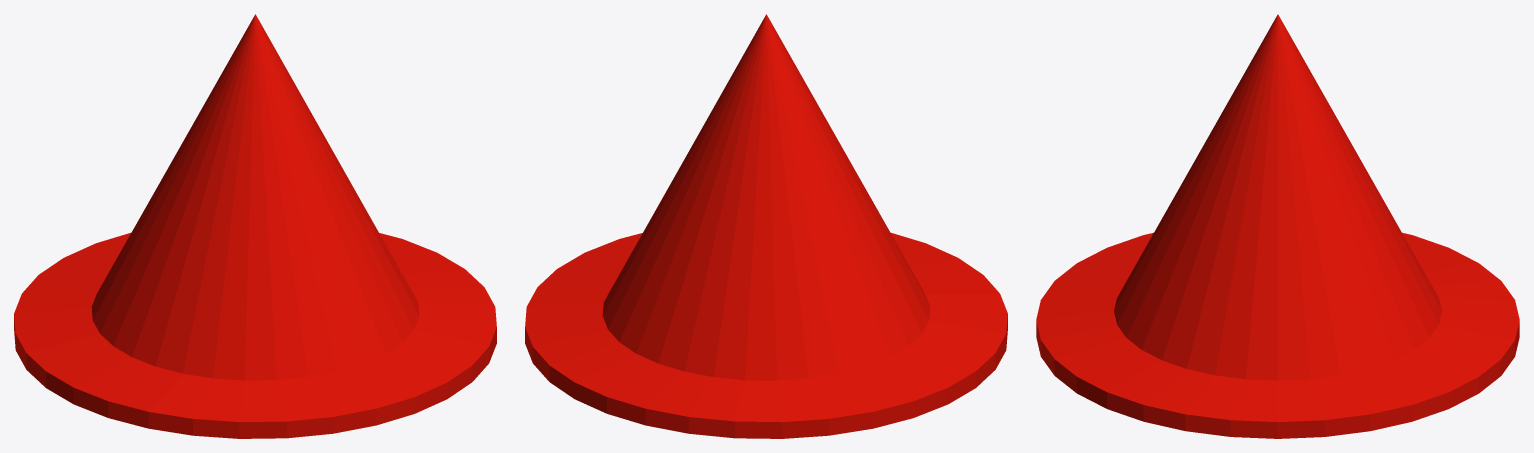
The model's file is spike.fbx.
3 renders of one model, left to right at view 1: azimuth 30°, elevation 25°; view 2: azimuth 150°, elevation 25°; view 3: azimuth 270°, elevation 25°, orthographic.
Parts seen in each view (by area): view 1: Cone; view 2: Cone; view 3: Cone.
Part boxes in pixels (x1,y1,x2,y2): Cone: (14,14,496,438); Cone: (525,14,1007,438); Cone: (1036,14,1519,438).
Size of the model in its own units: 295 by 217 by 295.
